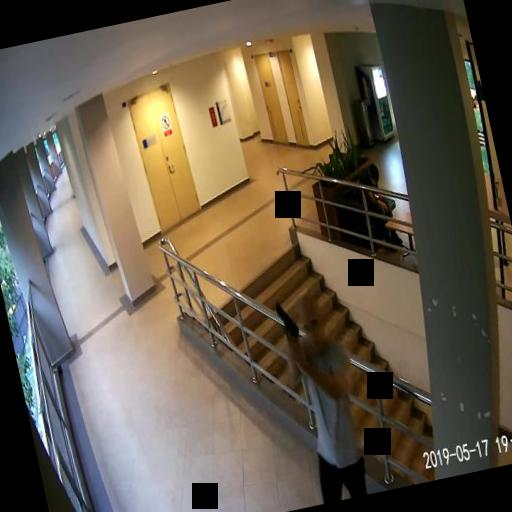Handgun: (273, 298, 301, 352)
